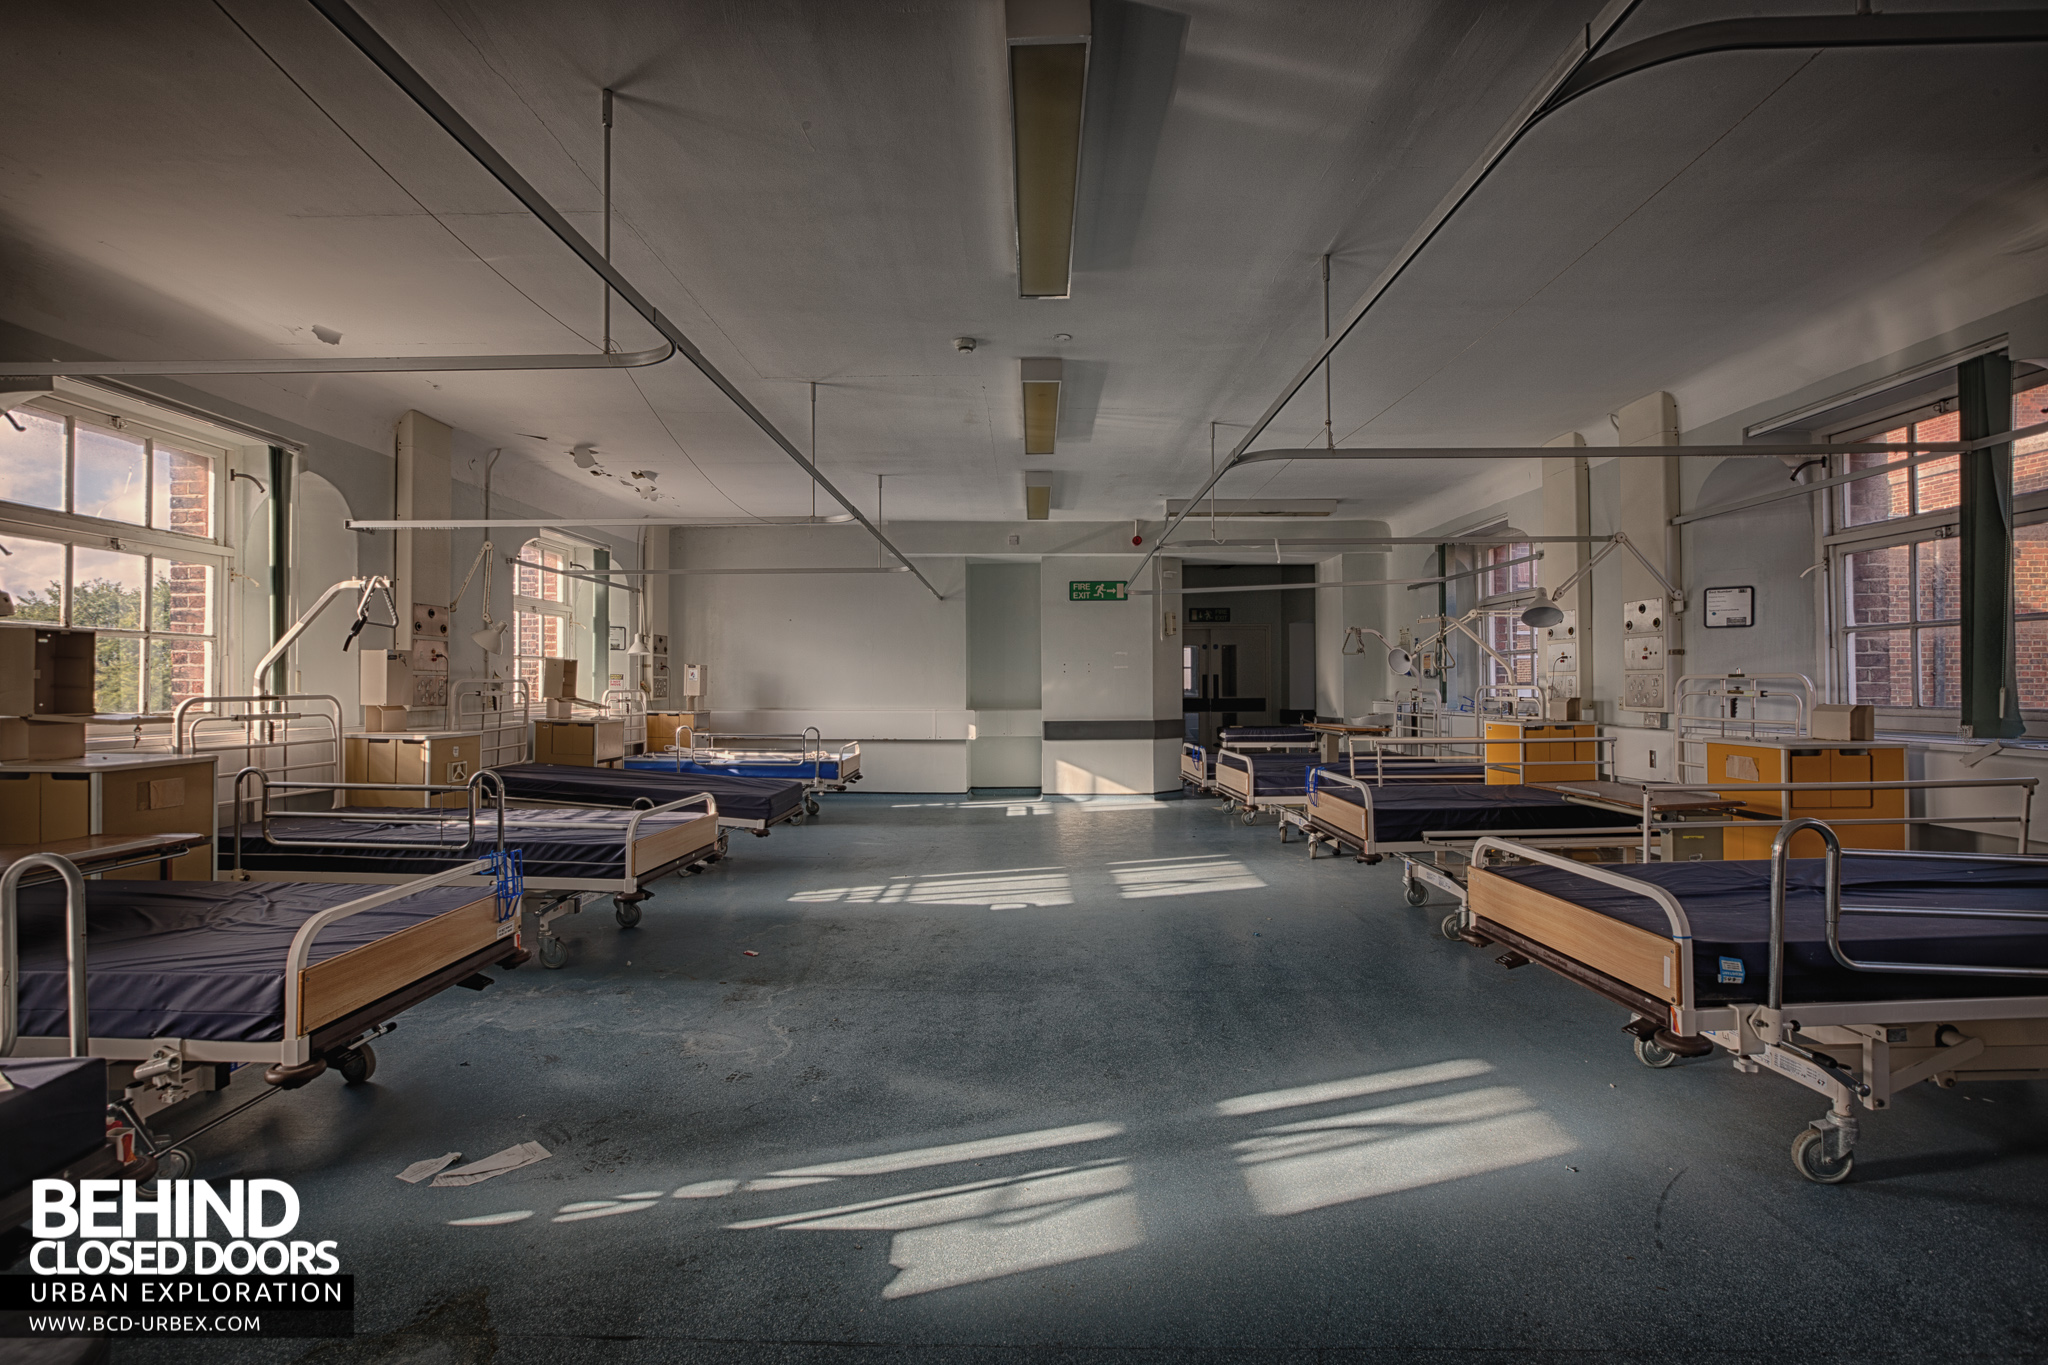hospital bed: (1451, 824, 2027, 1021), (41, 849, 516, 1053), (1278, 750, 1708, 856), (234, 795, 707, 846)
